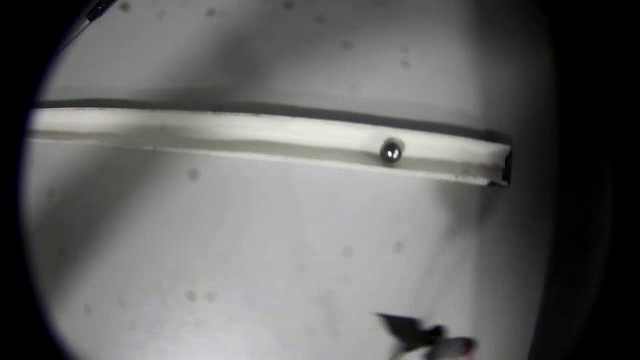gangzhu: (378, 139, 405, 165)
